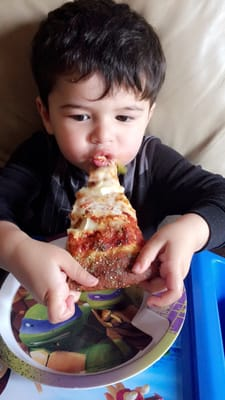sandwich: (65, 153, 145, 292)
